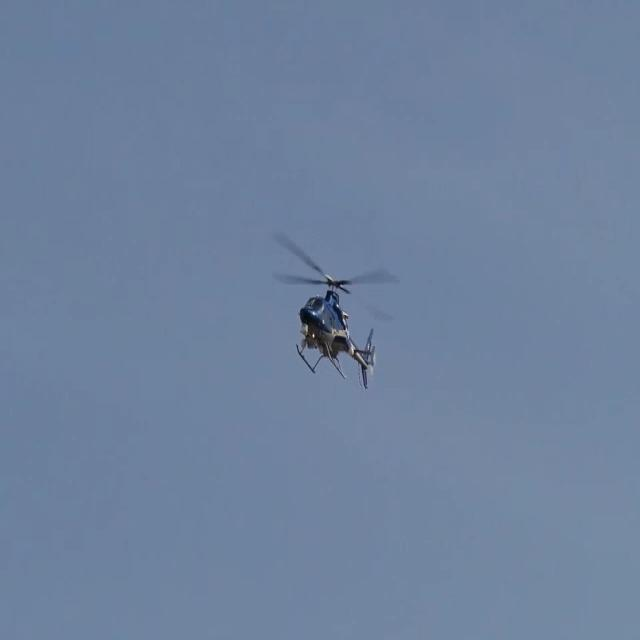Helicopter: (236, 237, 422, 400)
